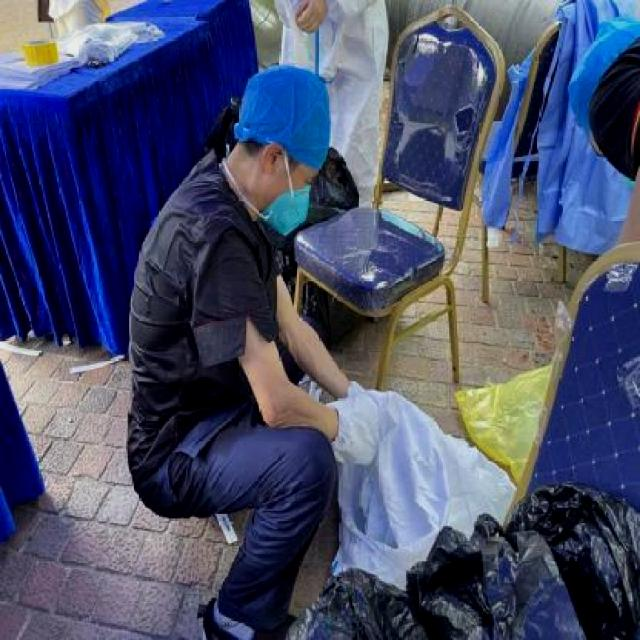face_mask: (244, 157, 322, 234)
hand_glove: (337, 406, 380, 472)
hand_noglove: (293, 0, 333, 35)
head_nohelmet: (232, 65, 340, 148)
person: (119, 67, 410, 640)
